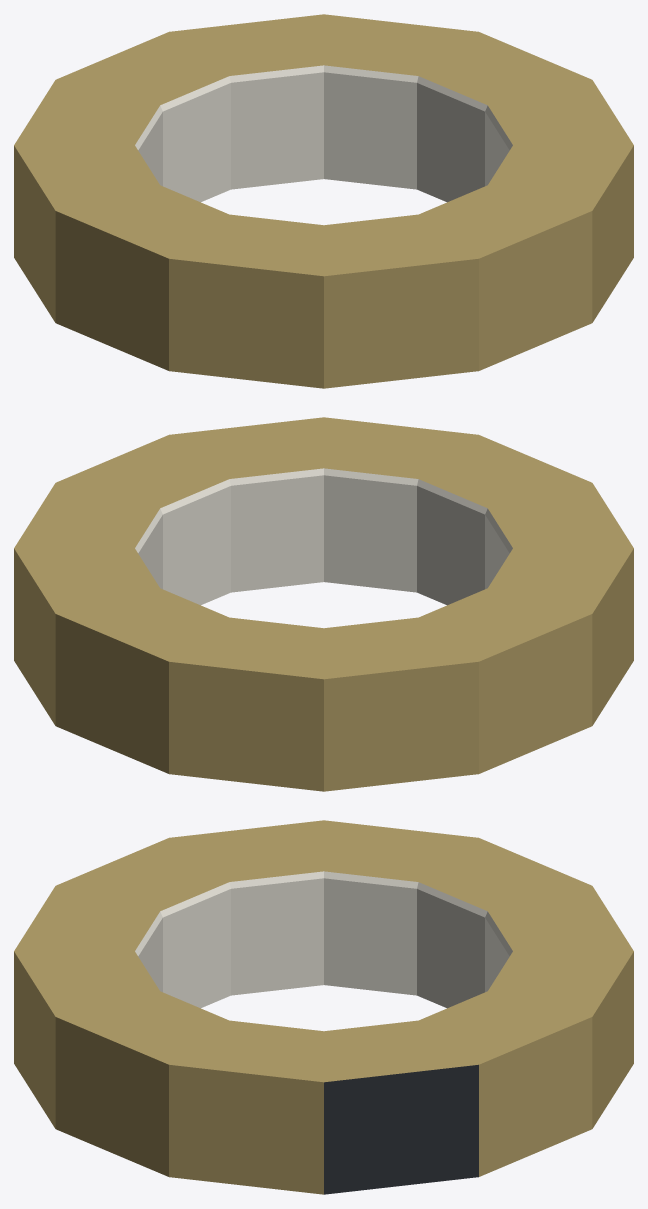
File: tape_roll.glb
The picture shows the model from 3 angles, top to bottom: view 1: azimuth 30°, elevation 25°; view 2: azimuth 150°, elevation 25°; view 3: azimuth 270°, elevation 25°; orthographic projection.
Visible parts, largest first — view 1: tape_roll; view 2: tape_roll; view 3: tape_roll.
Boxes of the visible parts, box(x1,y1,x2,y2) form: tape_roll: box(14, 14, 633, 388); tape_roll: box(14, 417, 633, 791); tape_roll: box(14, 820, 633, 1194).
Bounding box in the file's own units: 0.1 × 0.02 × 0.1.
